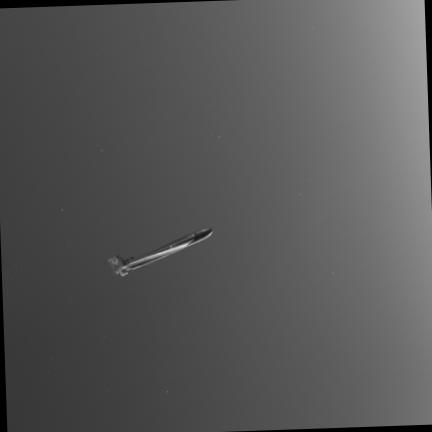Shahed: (108, 228, 212, 274)
